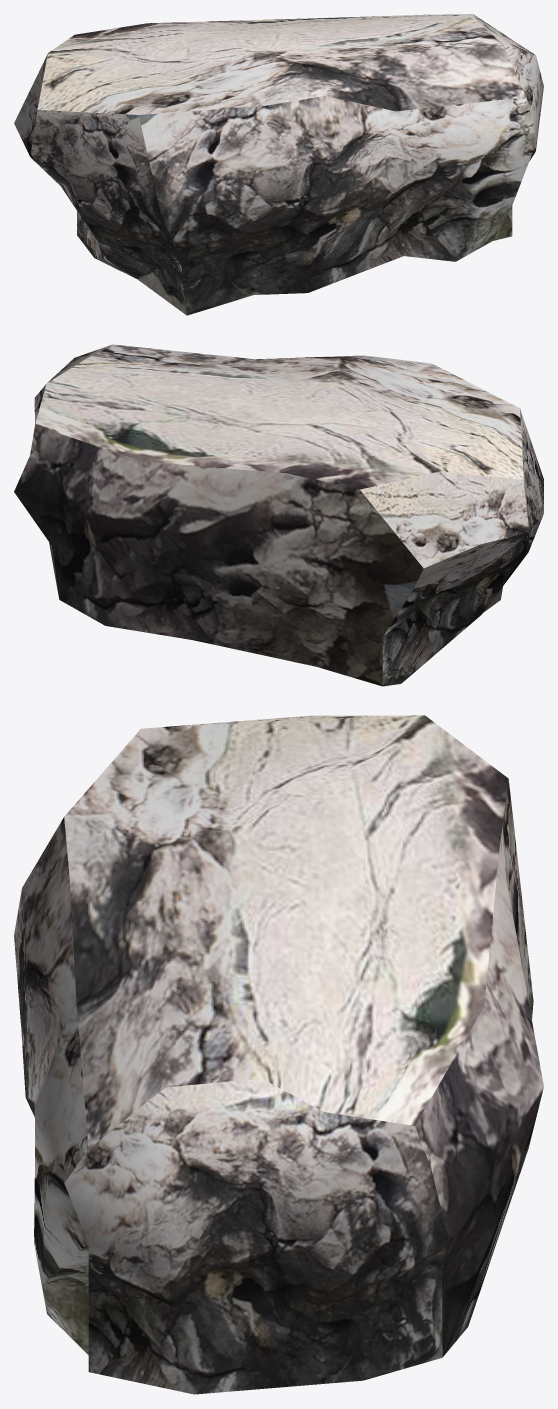
Rendered from Prop_RuomuRock3.FBX.
3 renders of one model, top to bottom at view 1: azimuth 30°, elevation 25°; view 2: azimuth 150°, elevation 25°; view 3: azimuth 270°, elevation 25°, orthographic. The views are drawn at different scales.
Parts seen in each view (by area): view 1: Prop_RuomuRock3; view 2: Prop_RuomuRock3; view 3: Prop_RuomuRock3.
Boxes of the visible parts, left/top/right/bottom form: Prop_RuomuRock3: left=14, top=14, right=543, bottom=315; Prop_RuomuRock3: left=14, top=344, right=543, bottom=686; Prop_RuomuRock3: left=14, top=715, right=543, bottom=1394.
Bounding box in the file's own units: 119 × 66.6 × 53.27.
